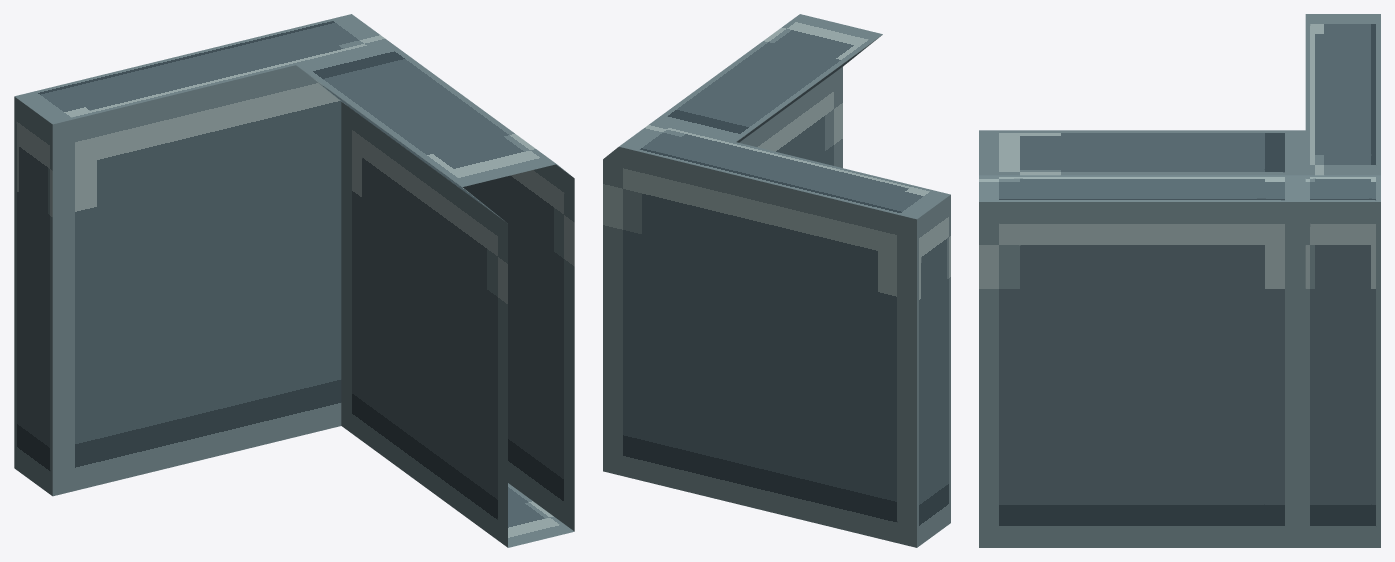
The model's file is casing_d7_front_x3_y1.obj.
3 renders of one model, left to right at view 1: azimuth 30°, elevation 25°; view 2: azimuth 150°, elevation 25°; view 3: azimuth 270°, elevation 25°, orthographic. The views are drawn at different scales.
Parts seen in each view (by area): view 1: d7_front_x3_y1; view 2: d7_front_x3_y1; view 3: d7_front_x3_y1.
Boxes of the visible parts, box(x1,y1,x2,y2) form: d7_front_x3_y1: box(14, 14, 574, 547); d7_front_x3_y1: box(603, 14, 950, 547); d7_front_x3_y1: box(979, 14, 1380, 547).
Size of the model in its own units: 1 by 1 by 1.
